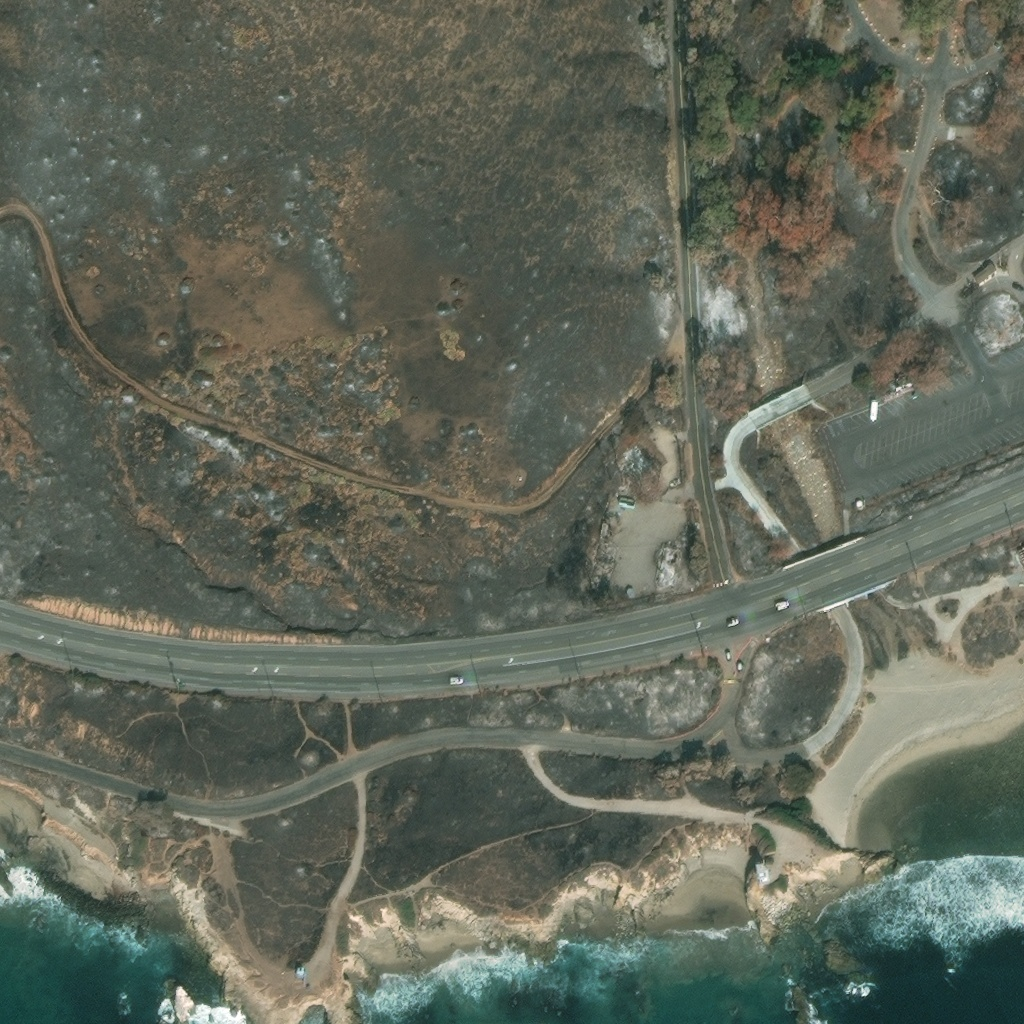0 no-damage: (972, 262, 998, 283), (754, 866, 769, 883)
3 destroyed: (585, 539, 616, 582), (621, 445, 656, 483), (658, 540, 683, 589), (887, 376, 908, 393), (619, 483, 634, 497)
4 un-classified: (1014, 545, 1023, 565)
